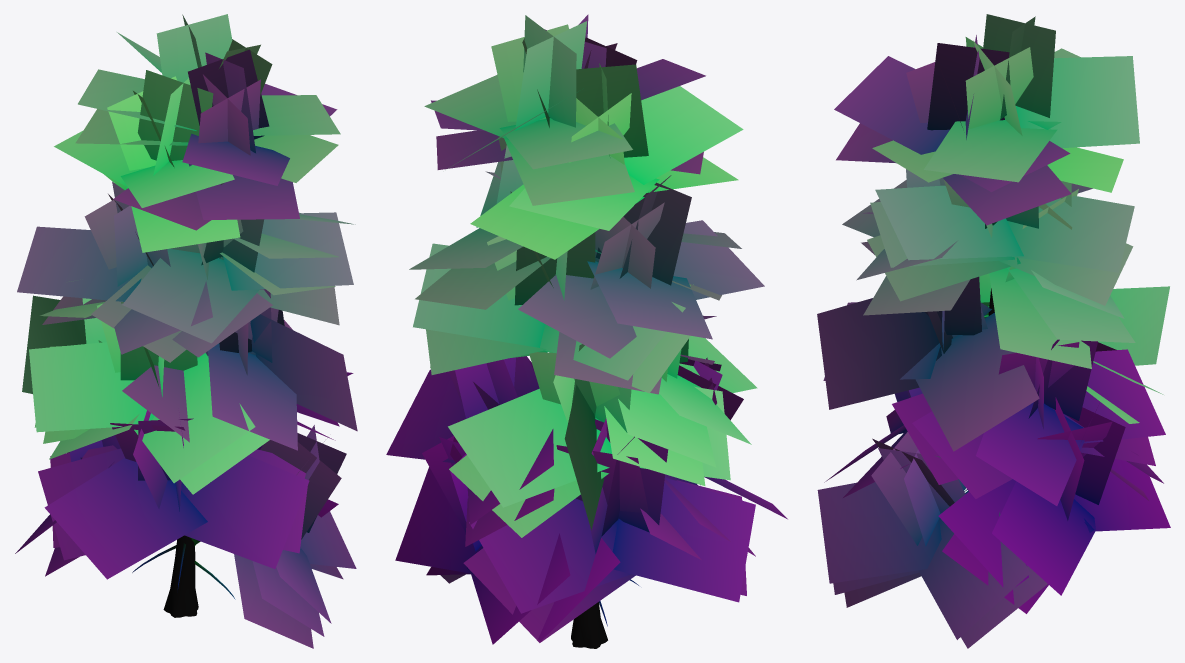
The model's file is Tree_2_7.fbx.
3 renders of one model, left to right at view 1: azimuth 30°, elevation 25°; view 2: azimuth 150°, elevation 25°; view 3: azimuth 270°, elevation 25°, orthographic. The views are drawn at different scales.
Parts seen in each view (by area): view 1: _7; view 2: _7; view 3: _7.
Boxes of the visible parts, x1,y1,x2,y2 form: _7: [15, 14, 357, 648]; _7: [386, 14, 787, 648]; _7: [817, 14, 1170, 648].
Bounding box in the file's own units: 835 × 1464 × 812.
